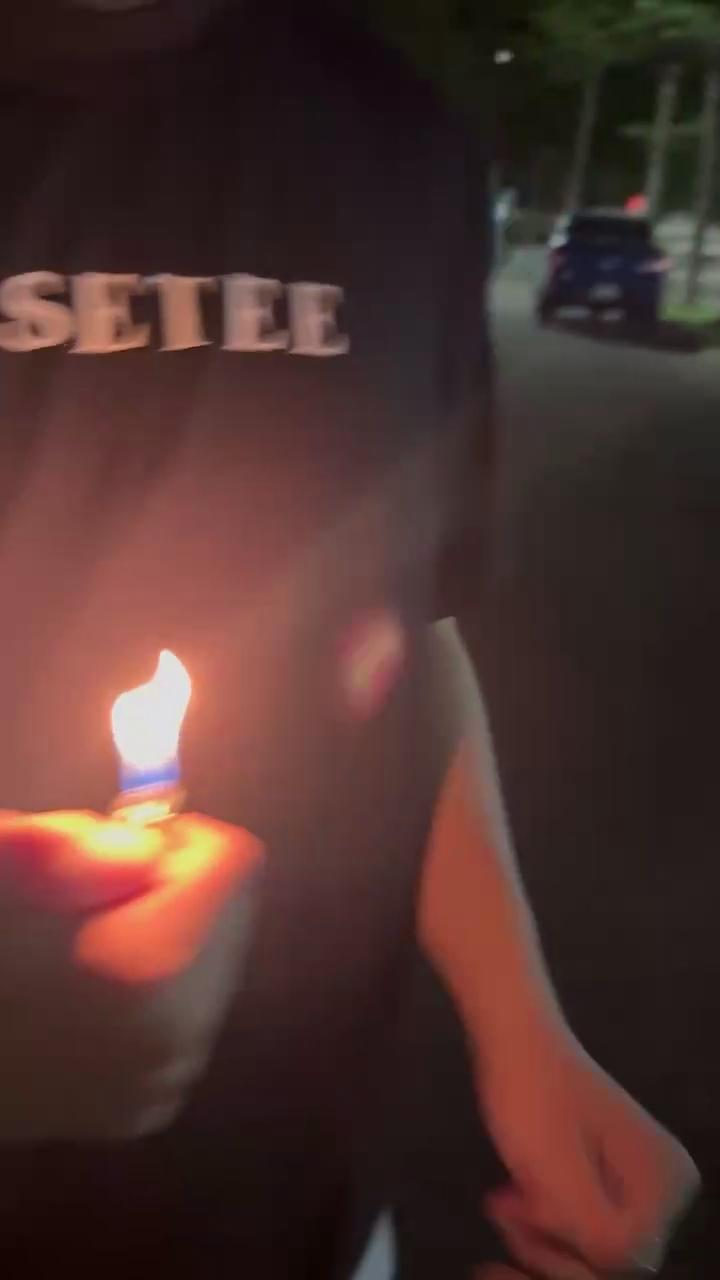Fire: (88, 650, 218, 788)
